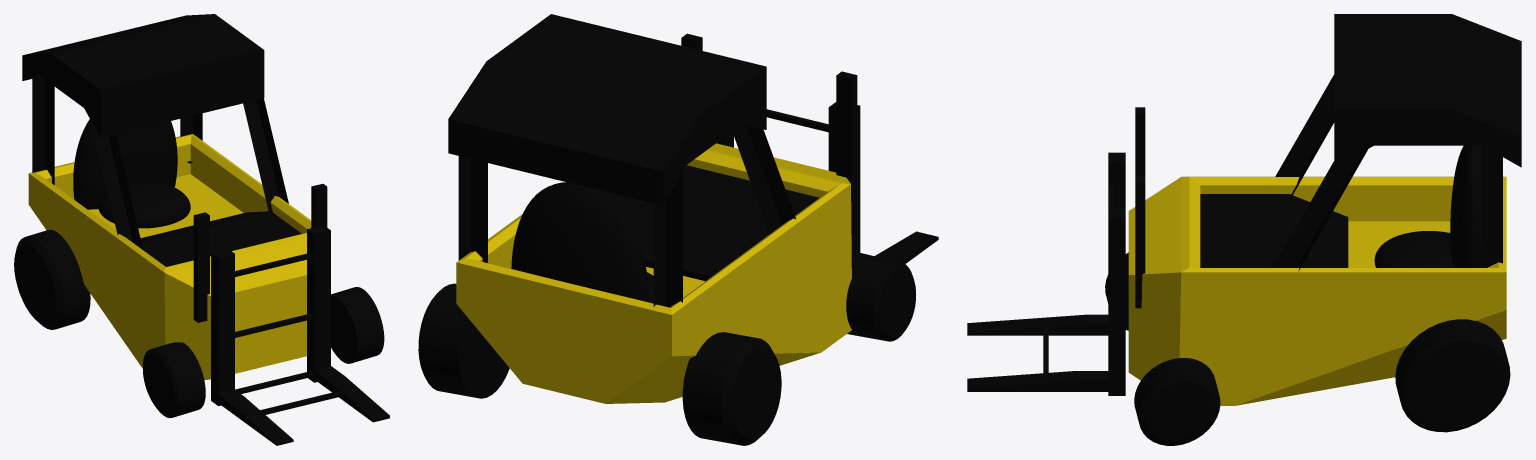
Rendered from ForkliftBody.fbx.
3 renders of one model, left to right at view 1: azimuth 30°, elevation 25°; view 2: azimuth 150°, elevation 25°; view 3: azimuth 270°, elevation 25°, orthographic. The views are drawn at different scales.
Visible parts, largest first — view 1: ForkliftBody, ForkliftCage, ForkliftLift, ForkliftWheels, ForkliftBackrest, ForkliftConsole, ForkliftSeat; view 2: ForkliftCage, ForkliftBody, ForkliftWheels, ForkliftBackrest, ForkliftConsole, ForkliftLift; view 3: ForkliftBody, ForkliftCage, ForkliftWheels, ForkliftLift, ForkliftConsole, ForkliftBackrest, ForkliftSeat.
Boxes of the visible parts, <box> form: ForkliftBody: <box>28,134,311,380</box>; ForkliftCage: <box>22,14,288,249</box>; ForkliftLift: <box>193,183,389,445</box>; ForkliftWheels: <box>14,229,384,418</box>; ForkliftBackrest: <box>73,119,177,209</box>; ForkliftConsole: <box>140,211,301,266</box>; ForkliftSeat: <box>98,182,190,228</box>; ForkliftCage: <box>448,14,796,307</box>; ForkliftBody: <box>456,143,851,403</box>; ForkliftWheels: <box>418,254,915,445</box>; ForkliftBackrest: <box>511,182,648,302</box>; ForkliftConsole: <box>598,165,819,281</box>; ForkliftLift: <box>681,33,938,263</box>; ForkliftBody: <box>1128,176,1506,405</box>; ForkliftCage: <box>1272,14,1521,270</box>; ForkliftWheels: <box>1105,252,1510,445</box>; ForkliftLift: <box>967,107,1145,395</box>; ForkliftConsole: <box>1200,194,1348,267</box>; ForkliftBackrest: <box>1450,145,1481,267</box>; ForkliftSeat: <box>1374,231,1453,267</box>.
Bounding box in the file's own units: 183 × 313 × 196.
